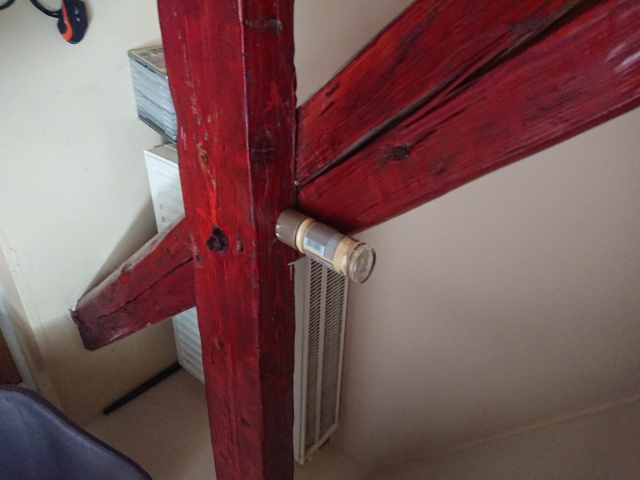Kotanyi Garlic Granules 70g: (272, 205, 378, 286)
